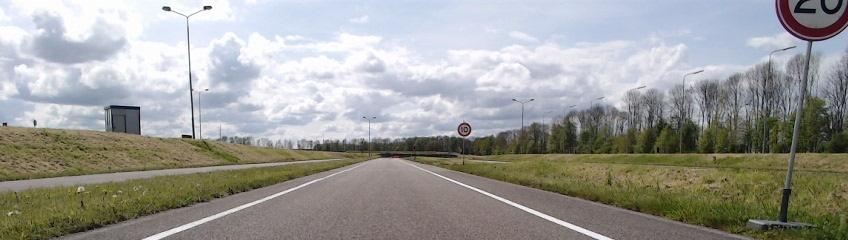Speed-limit-10km-h-: (458, 123, 471, 137)
Speed-limit-20km-h-: (775, 0, 848, 41)
